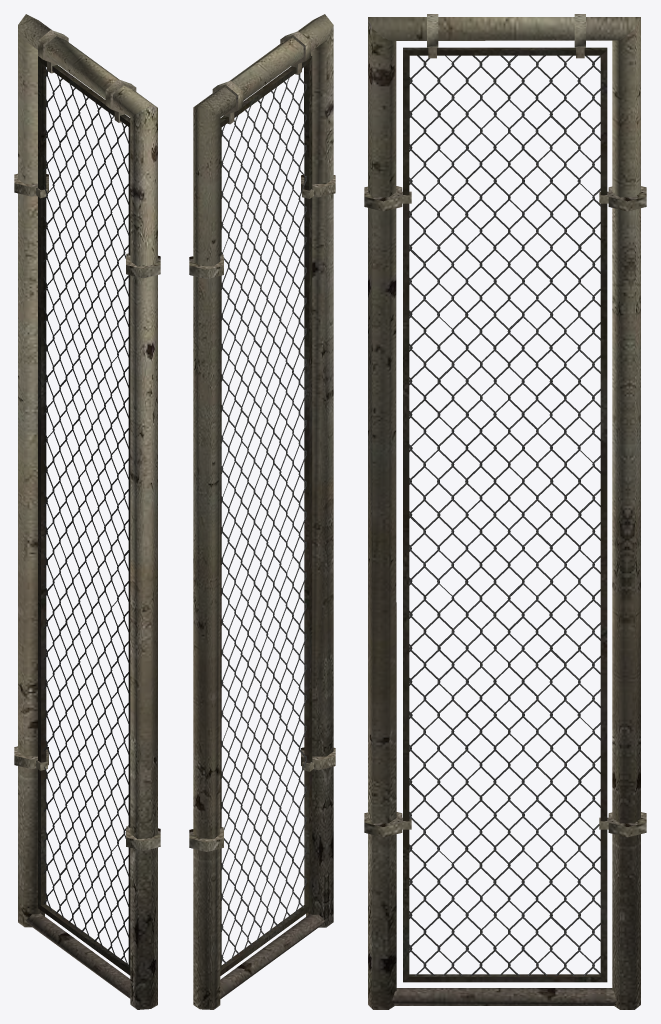
Rendered from interior_fence002a.glb.
3 views of the same model, side by side, from view 1: azimuth 30°, elevation 25°; view 2: azimuth 150°, elevation 25°; view 3: azimuth 270°, elevation 25° (orthographic). The views are drawn at different scales.
Visible parts, largest first — view 1: 0_prison_yard001, 1_fence_alpha; view 2: 0_prison_yard001, 1_fence_alpha; view 3: 0_prison_yard001, 1_fence_alpha.
Boxes of the visible parts, x1,y1,x2,y2 form: 0_prison_yard001: (14, 14, 160, 1009); 1_fence_alpha: (43, 65, 128, 966); 0_prison_yard001: (189, 14, 335, 1009); 1_fence_alpha: (221, 73, 306, 964); 0_prison_yard001: (364, 14, 646, 1009); 1_fence_alpha: (409, 55, 600, 975).
Size of the model in its own units: 0.1313 by 3.27 by 0.8435.
2 materials, 2 textured.
